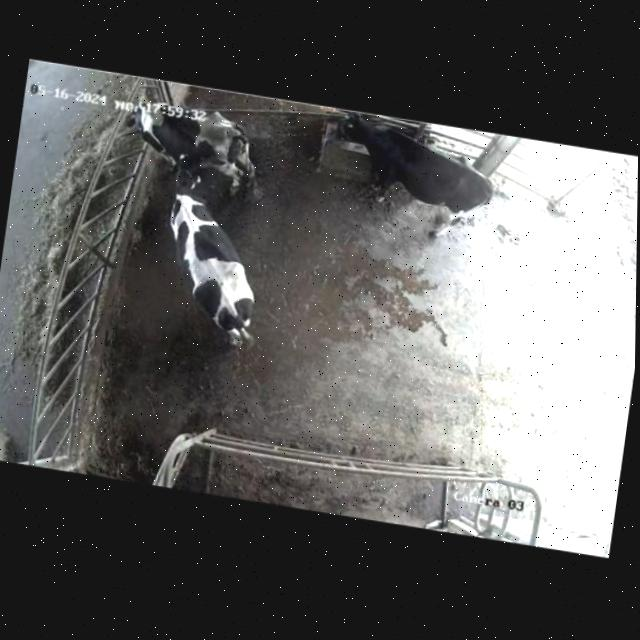drink: (326, 108, 404, 185)
eat: (93, 84, 198, 154)
stand: (143, 156, 290, 368)
